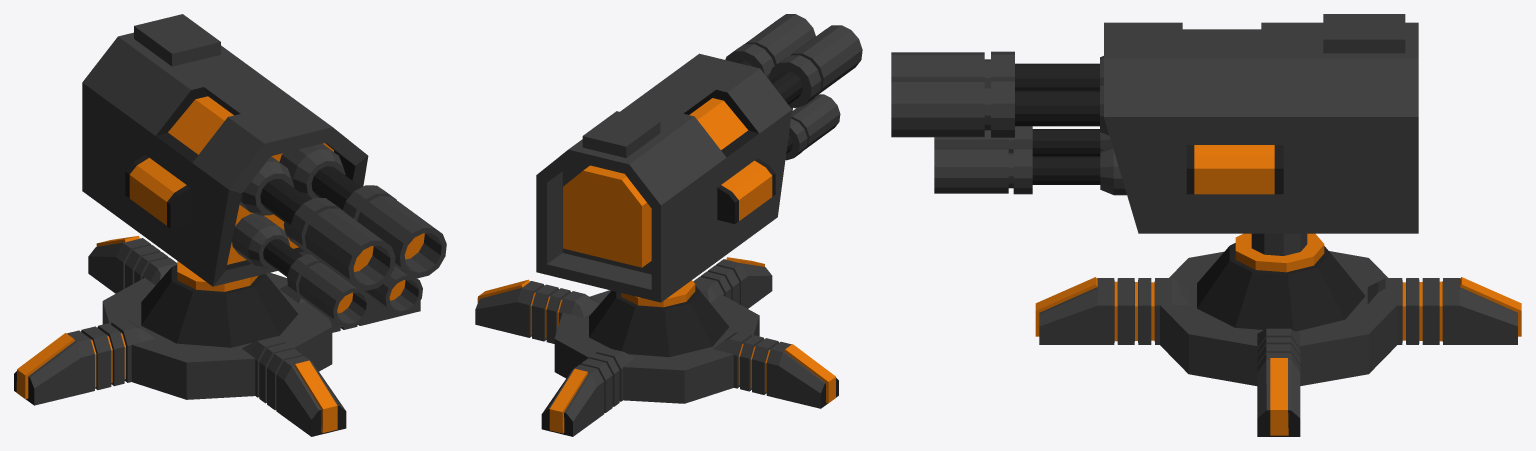
Rendered from turret2.2.fbx.
3 renders of one model, left to right at view 1: azimuth 30°, elevation 25°; view 2: azimuth 150°, elevation 25°; view 3: azimuth 270°, elevation 25°, orthographic. The views are drawn at different scales.
Visible parts, largest first — view 1: turret head, Cylinder, base, Cylinder.001, Cylinder.003, Cube.001, Cylinder.002, Cylinder.004, Cube.003, Cube.004, Cylinder.005; view 2: turret head, Cube.001, Cylinder, base, Cylinder.001, Cylinder.003, Cylinder.002, Cube.003, Cube.004, Cylinder.004; view 3: turret head, base, Cylinder, Cylinder.001, Cylinder.002, Cylinder.005, Cylinder.003, Cube.003, Cube.001, Cylinder.004, Cube.004.
Part boxes in pixels (left/top/right/bottom): turret head: left=82, top=32, right=368, bottom=286; Cylinder: left=102, top=272, right=332, bottom=399; base: left=88, top=236, right=346, bottom=436; Cylinder.001: left=141, top=261, right=297, bottom=347; Cylinder.003: left=239, top=156, right=395, bottom=290; Cube.001: left=14, top=284, right=420, bottom=405; Cylinder.002: left=279, top=143, right=446, bottom=278; Cylinder.004: left=232, top=213, right=370, bottom=328; Cube.003: left=125, top=155, right=190, bottom=228; Cube.004: left=134, top=14, right=220, bottom=66; Cylinder.005: left=283, top=222, right=422, bottom=315; turret head: left=536, top=53, right=791, bottom=302; Cube.001: left=475, top=279, right=838, bottom=408; Cylinder: left=554, top=290, right=759, bottom=403; base: left=541, top=257, right=772, bottom=436; Cylinder.001: left=589, top=280, right=729, bottom=357; Cylinder.003: left=768, top=25, right=862, bottom=108; Cylinder.002: left=725, top=14, right=815, bottom=79; Cube.003: left=717, top=158, right=775, bottom=223; Cube.004: left=582, top=111, right=660, bottom=157; Cylinder.004: left=785, top=94, right=840, bottom=160; turret head: left=1104, top=22, right=1418, bottom=233; base: left=1035, top=277, right=1521, bottom=344; Cylinder: left=1160, top=251, right=1397, bottom=385; Cylinder.001: left=1197, top=233, right=1365, bottom=331; Cylinder.002: left=891, top=78, right=1109, bottom=137; Cylinder.005: left=934, top=146, right=1126, bottom=195; Cylinder.003: left=891, top=51, right=1103, bottom=90; Cube.003: left=1186, top=145, right=1283, bottom=194; Cube.001: left=1257, top=328, right=1300, bottom=436; Cylinder.004: left=934, top=126, right=1112, bottom=156; Cube.004: left=1323, top=14, right=1405, bottom=53.
Bounding box in the file's own units: 381 × 268 × 494.
